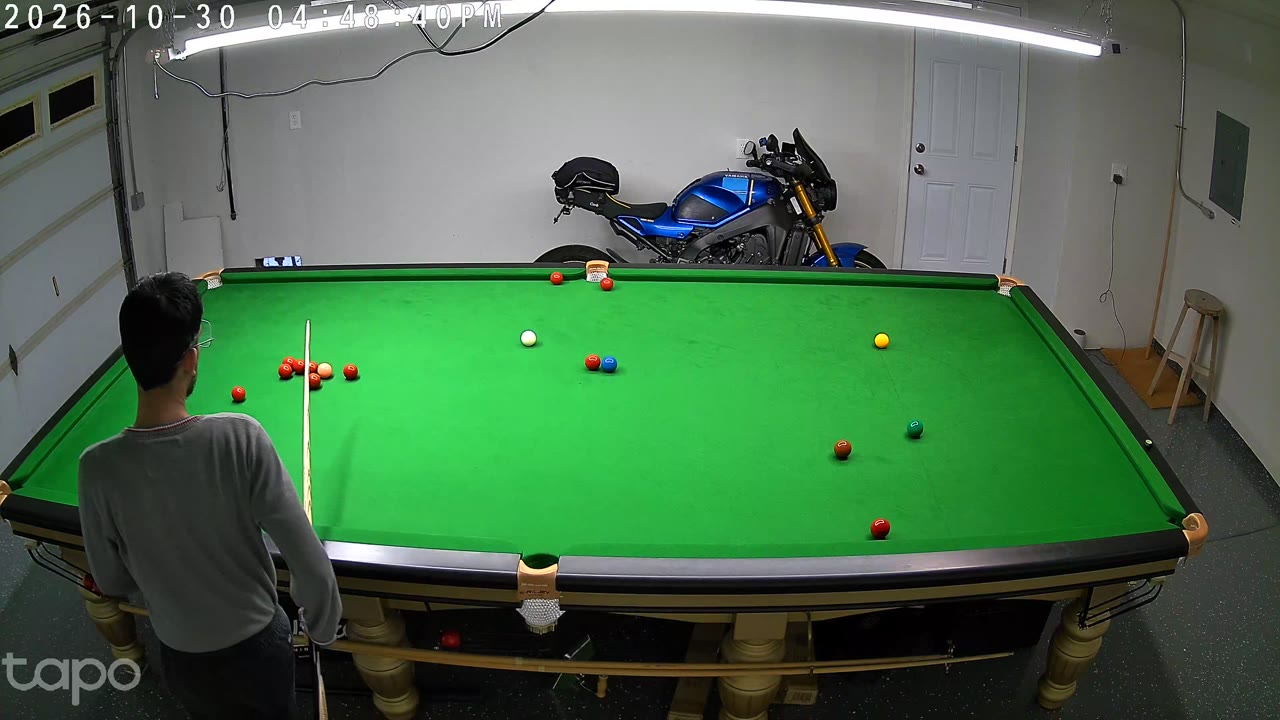blue: (602, 355, 617, 376)
brown: (834, 438, 852, 463)
green: (906, 417, 923, 441)
red: (869, 515, 891, 547), (231, 384, 245, 406), (585, 353, 599, 373), (344, 362, 357, 382), (279, 362, 292, 381), (551, 271, 562, 287)
white: (521, 328, 536, 350)
yellow: (875, 332, 889, 351)
